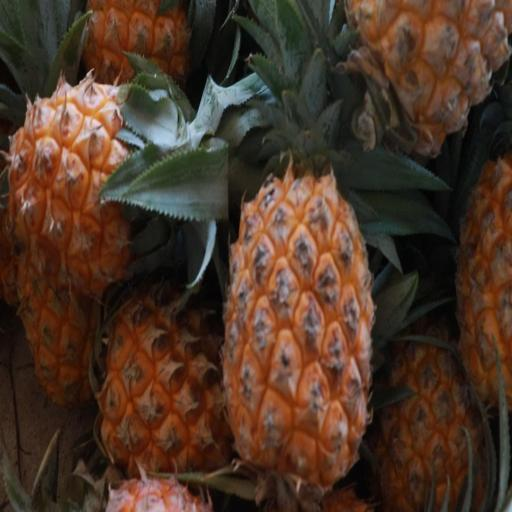Pineapple - v8 v1: (218, 148, 377, 502), (5, 68, 195, 301), (95, 270, 243, 485), (345, 2, 512, 160), (452, 146, 511, 436)
